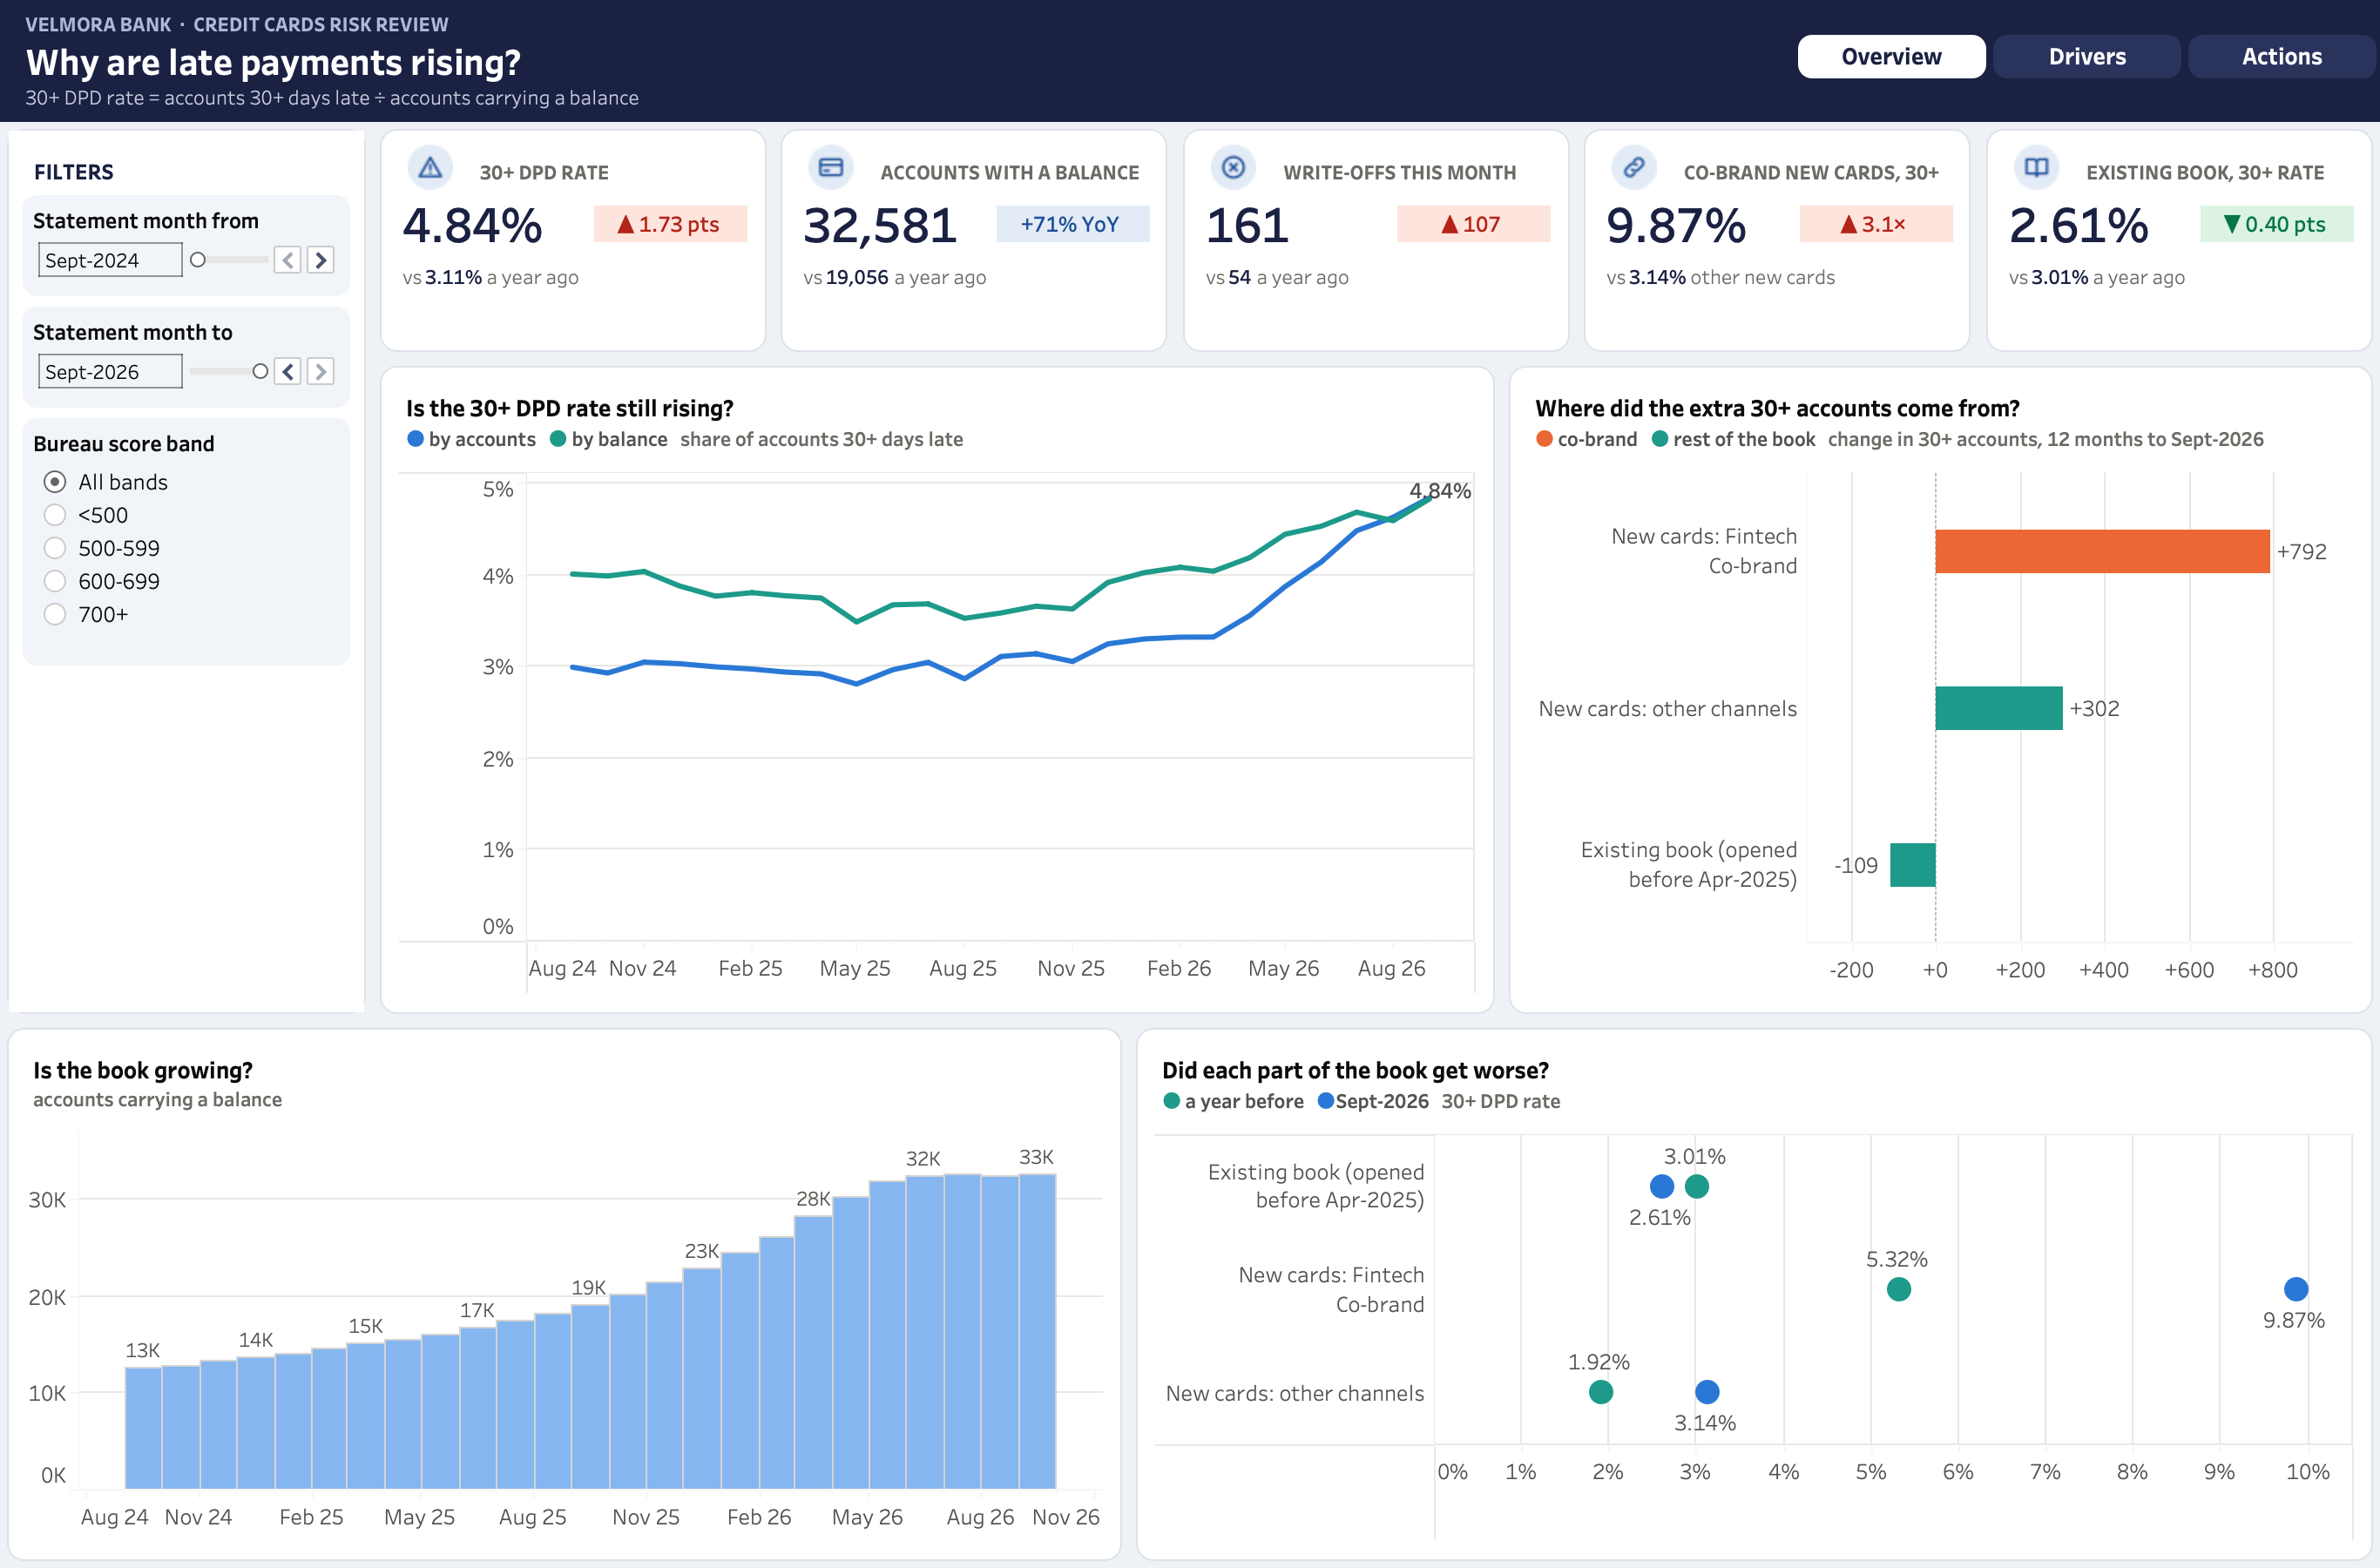

This screenshot's page, from the dashboard's own definition file:
{"tool":"tableau","page":{"name":"Overview","canvas":[1366,900],"ordinal":0},"visuals":[{"type":"text","box":[4,4,1022,70]},{"type":"blank","box":[1026,4,336,18]},{"type":"dashboard-object","box":[1026,22,108,34]},{"type":"dashboard-object","box":[1134,22,108,34]},{"type":"dashboard-object","box":[1242,22,108,34]},{"type":"blank","box":[1026,56,336,18]},{"type":"text","box":[4,74,206,34]},{"type":"image","param":"/Users/vishalparmar/Desktop/Data-analyst/data_analysis_projects/finance/projects","box":[210,74,36,34]},{"type":"text","box":[246,74,194.4,34]},{"type":"image","param":"/Users/vishalparmar/Desktop/Data-analyst/data_analysis_projects/finance/projects","box":[440.4,74,36,34]},{"type":"text","box":[476.4,74,194.4,34]},{"type":"image","param":"/Users/vishalparmar/Desktop/Data-analyst/data_analysis_projects/finance/projects","box":[670.8,74,36,34]},{"type":"text","box":[706.8,74,194.4,34]},{"type":"image","param":"/Users/vishalparmar/Desktop/Data-analyst/data_analysis_projects/finance/projects","box":[901.2,74,36,34]},{"type":"text","box":[937.2,74,194.4,34]},{"type":"image","param":"/Users/vishalparmar/Desktop/Data-analyst/data_analysis_projects/finance/projects","box":[1131.6,74,36,34]},{"type":"text","box":[1167.6,74,194.4,34]},{"type":"parameter","param":"[Parameters].[Statement month from]","box":[4,108,206,58]},{"type":"worksheet","title":"O V rate","mark":"Text","box":[210,108,142.4,40]},{"type":"worksheet","title":"O B rate","mark":"Bar","cols":["One"],"box":[352.4,108,88,40]},{"type":"worksheet","title":"O V accounts","mark":"Text","box":[440.4,108,142.4,40]},{"type":"worksheet","title":"O B accounts","mark":"Bar","cols":["One"],"box":[582.8,108,88,40]},{"type":"worksheet","title":"O V write-offs","mark":"Text","box":[670.8,108,142.4,40]},{"type":"worksheet","title":"O B write-offs","mark":"Bar","cols":["One"],"box":[813.2,108,88,40]},{"type":"worksheet","title":"O V co-brand","mark":"Text","box":[901.2,108,142.4,40]},{"type":"worksheet","title":"O B co-brand","mark":"Bar","cols":["One"],"box":[1043.6,108,88,40]},{"type":"worksheet","title":"O V existing","mark":"Text","box":[1131.6,108,142.4,40]},{"type":"worksheet","title":"O B existing","mark":"Bar","cols":["One"],"box":[1274,108,88,40]},{"type":"worksheet","title":"O C rate","mark":"Text","box":[210,148,230.4,22]},{"type":"worksheet","title":"O C accounts","mark":"Text","box":[440.4,148,230.4,22]},{"type":"worksheet","title":"O C write-offs","mark":"Text","box":[670.8,148,230.4,22]},{"type":"worksheet","title":"O C co-brand","mark":"Text","box":[901.2,148,230.4,22]},{"type":"worksheet","title":"O C existing","mark":"Text","box":[1131.6,148,230.4,22]},{"type":"parameter","param":"[Parameters].[Statement month to]","box":[4,166,206,58]},{"type":"blank","box":[210,170,230.4,40]},{"type":"blank","box":[440.4,170,230.4,40]},{"type":"blank","box":[670.8,170,230.4,40]},{"type":"blank","box":[901.2,170,230.4,40]},{"type":"blank","box":[1131.6,170,230.4,40]},{"type":"worksheet","title":"O Rate trend","mark":"Automatic","rows":["30+ rate","30+ rate by balance"],"cols":["statement_month"],"box":[210,210,640,380]},{"type":"worksheet","title":"O Change by part","mark":"Bar","rows":["Book part 3"],"cols":["Change in 30+ accounts"],"box":[850,210,512,380]},{"type":"parameter","param":"[Parameters].[Bureau score band]","box":[4,224,206,142]},{"type":"blank","box":[4,366,206,224]},{"type":"worksheet","title":"O Accounts","mark":"Bar","rows":["Accounts"],"cols":["statement_month"],"box":[4,590,640,306]},{"type":"worksheet","title":"O Rate by part","mark":"Automatic","rows":["Book part 3"],"cols":["Rate year ago","Rate now"],"box":[644,590,718,306]}]}

Visuals, with their boxes in screenshot pixels (x1, y1, x2, y2), scaled from the page's 1366x900 canvas onto the 2380x1568 screenshot:
text: 7,7,1788,129
blank: 1788,7,2373,38
dashboard-object: 1788,38,1976,98
dashboard-object: 1976,38,2164,98
dashboard-object: 2164,38,2352,98
blank: 1788,98,2373,129
text: 7,129,366,188
image: 366,129,429,188
text: 429,129,767,188
image: 767,129,830,188
text: 830,129,1169,188
image: 1169,129,1232,188
text: 1232,129,1570,188
image: 1570,129,1633,188
text: 1633,129,1971,188
image: 1971,129,2034,188
text: 2034,129,2373,188
parameter: 7,188,366,289
"O V rate" worksheet (Text marks): 366,188,614,258
"O B rate" worksheet (Bar marks): 614,188,767,258
"O V accounts" worksheet (Text marks): 767,188,1016,258
"O B accounts" worksheet (Bar marks): 1016,188,1169,258
"O V write-offs" worksheet (Text marks): 1169,188,1417,258
"O B write-offs" worksheet (Bar marks): 1417,188,1570,258
"O V co-brand" worksheet (Text marks): 1570,188,1818,258
"O B co-brand" worksheet (Bar marks): 1818,188,1971,258
"O V existing" worksheet (Text marks): 1971,188,2220,258
"O B existing" worksheet (Bar marks): 2220,188,2373,258
"O C rate" worksheet (Text marks): 366,258,767,296
"O C accounts" worksheet (Text marks): 767,258,1169,296
"O C write-offs" worksheet (Text marks): 1169,258,1570,296
"O C co-brand" worksheet (Text marks): 1570,258,1971,296
"O C existing" worksheet (Text marks): 1971,258,2373,296
parameter: 7,289,366,390
blank: 366,296,767,366
blank: 767,296,1169,366
blank: 1169,296,1570,366
blank: 1570,296,1971,366
blank: 1971,296,2373,366
"O Rate trend" worksheet: 366,366,1481,1028
"O Change by part" worksheet (Bar marks): 1481,366,2373,1028
parameter: 7,390,366,638
blank: 7,638,366,1028
"O Accounts" worksheet (Bar marks): 7,1028,1122,1561
"O Rate by part" worksheet: 1122,1028,2373,1561
